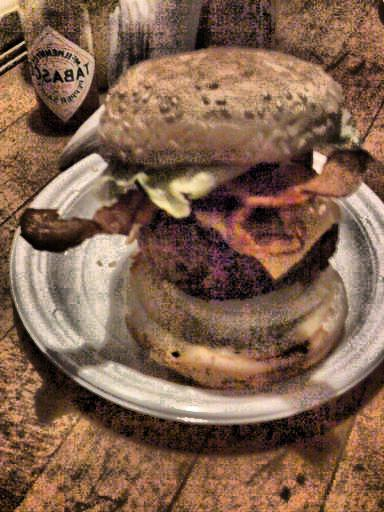burger: (91, 56, 347, 403)
